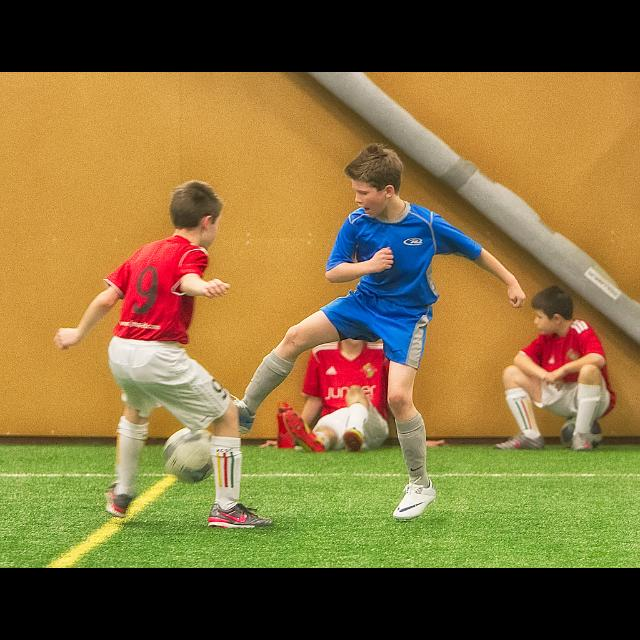Football: (160, 424, 212, 484), (558, 415, 606, 449)
